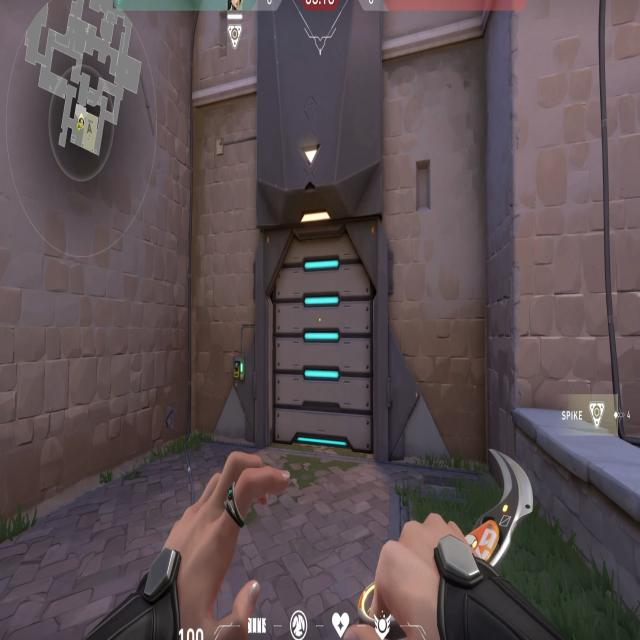A_Door: (261, 210, 392, 459)
